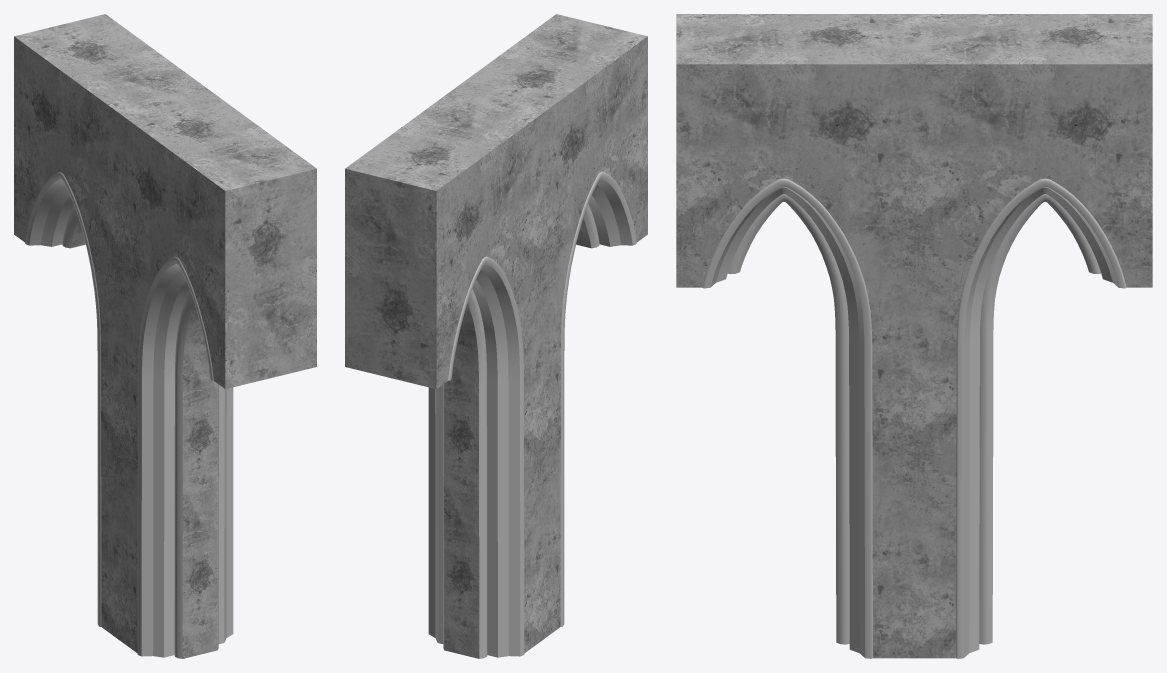
File: SM_Wall_01b.fbx
3 renders of one model, left to right at view 1: azimuth 30°, elevation 25°; view 2: azimuth 150°, elevation 25°; view 3: azimuth 270°, elevation 25°, orthographic. The views are drawn at different scales.
Visible parts, largest first — view 1: SM_Wall_01b_LOD0; view 2: SM_Wall_01b_LOD0; view 3: SM_Wall_01b_LOD0.
Part boxes in pixels (x1,y1,x2,y2): SM_Wall_01b_LOD0: (14,14,316,658); SM_Wall_01b_LOD0: (345,14,647,658); SM_Wall_01b_LOD0: (676,14,1152,658).
Bounding box in the file's own units: 206 × 800 × 1100.
